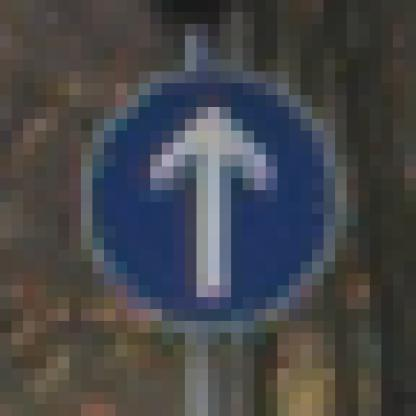straight: (69, 71, 370, 333)
